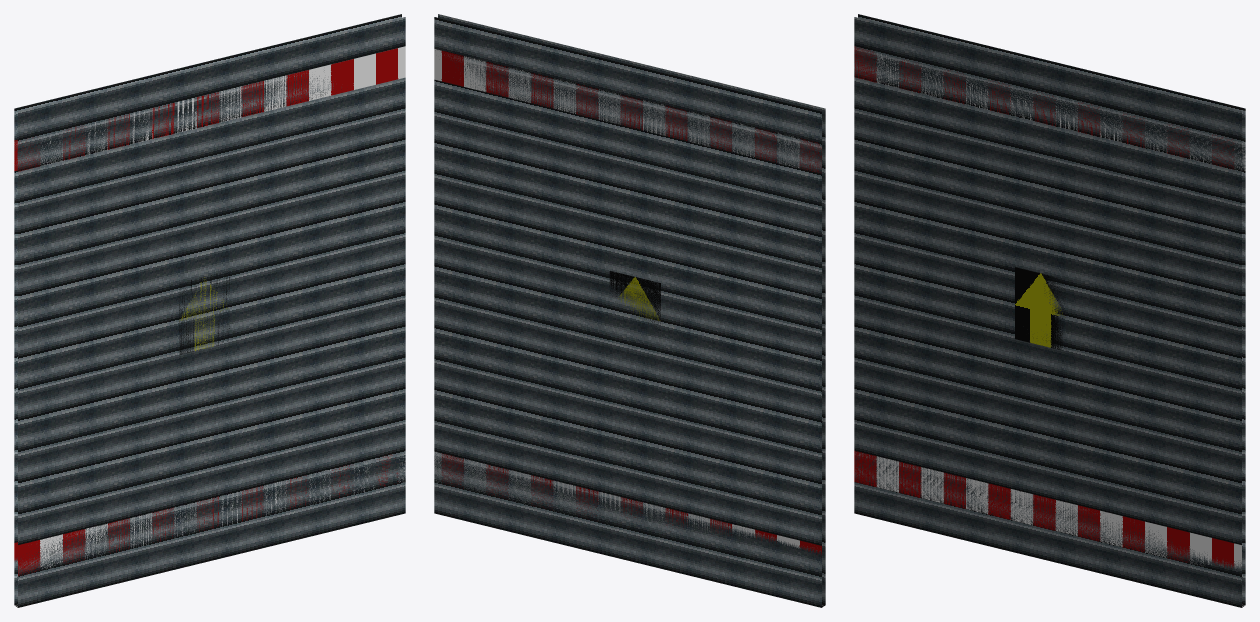
File: metal_door_5.glb
3 renders of one model, left to right at view 1: azimuth 30°, elevation 25°; view 2: azimuth 150°, elevation 25°; view 3: azimuth 330°, elevation 25°, orthographic.
Parts seen in each view (by area): view 1: Object; view 2: Object; view 3: Object.
Part boxes in pixels (x1,y1,x2,y2): Object: [14, 14, 405, 607]; Object: [434, 14, 825, 607]; Object: [854, 14, 1245, 607].
Size of the model in its own units: 3 by 3.68 by 0.0518.
6 materials, 6 textured.
